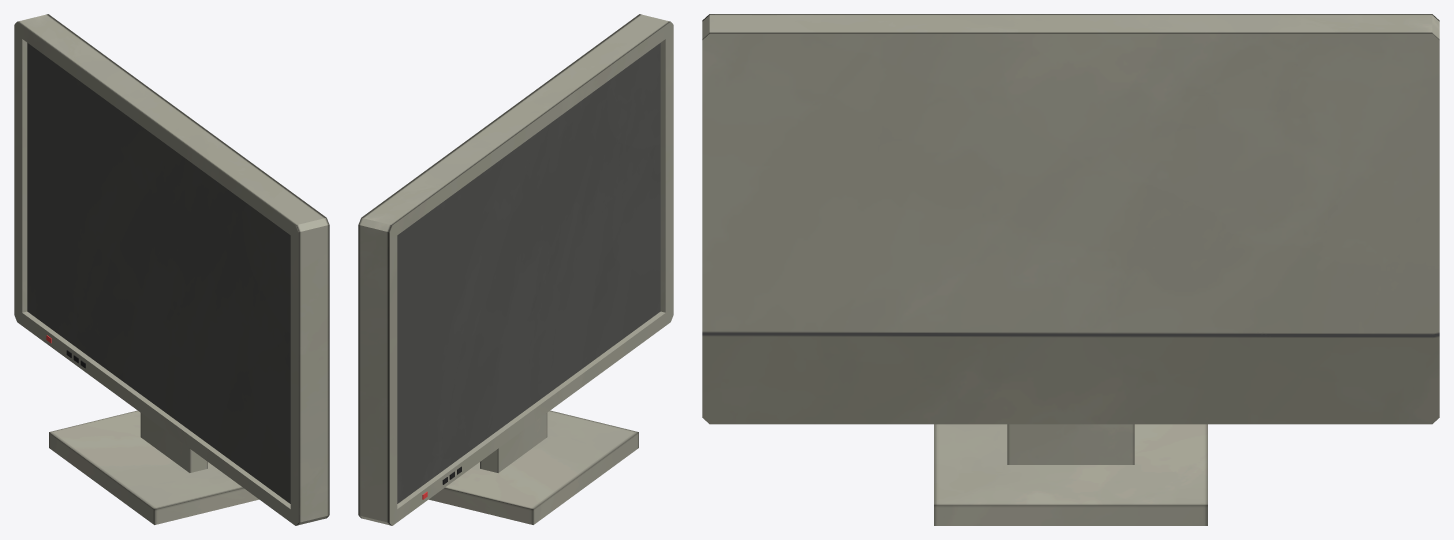
The model's file is monitor.fbx.
3 renders of one model, left to right at view 1: azimuth 30°, elevation 25°; view 2: azimuth 150°, elevation 25°; view 3: azimuth 270°, elevation 25°, orthographic. The views are drawn at different scales.
Parts seen in each view (by area): view 1: polySurface724; view 2: polySurface724; view 3: polySurface724.
Boxes of the visible parts, x1=… form: polySurface724: x1=14, y1=14, x2=329, y2=525; polySurface724: x1=358, y1=14, x2=673, y2=525; polySurface724: x1=702, y1=14, x2=1439, y2=525.
Bounding box in the file's own units: 0.2629 × 0.6029 × 0.887.
